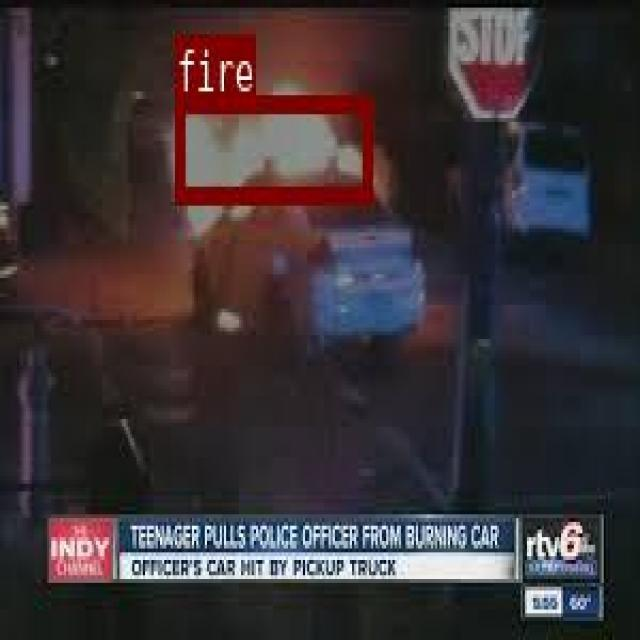fire: (175, 92, 371, 199)
